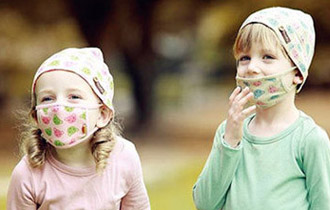face_mask: (35, 70, 98, 149), (235, 38, 292, 108)
